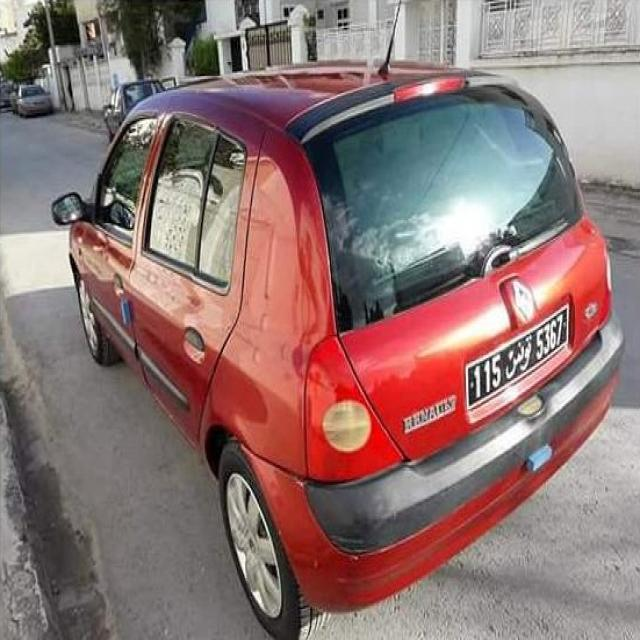licence plate: (469, 309, 566, 407)
